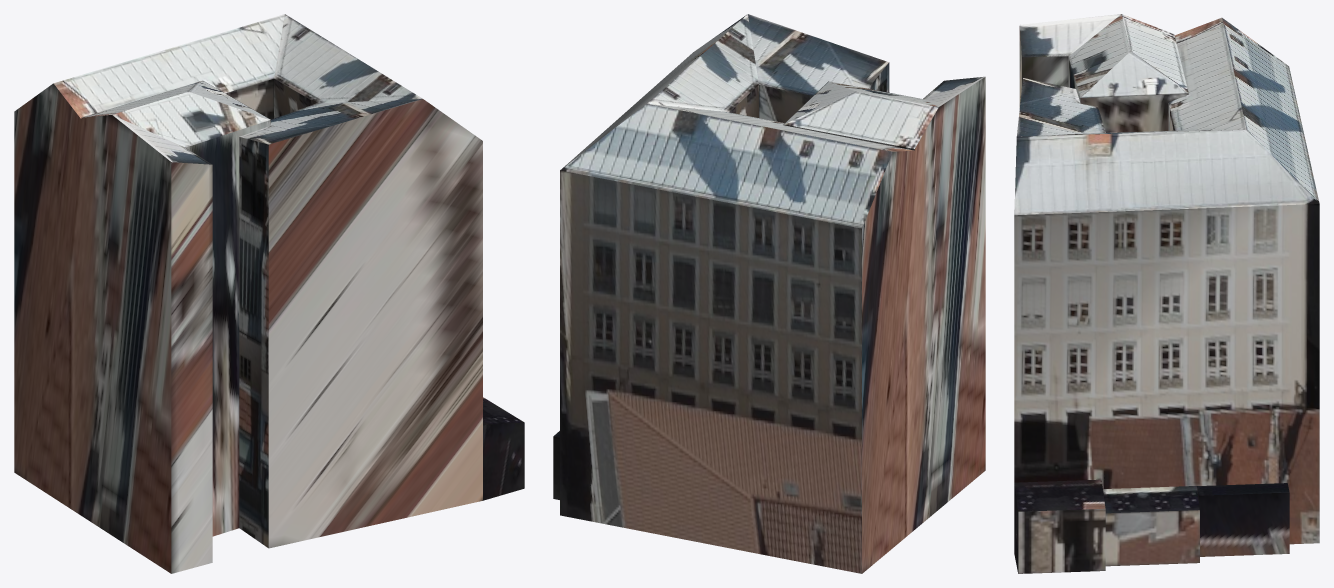
The picture shows the model from 3 angles, left to right: view 1: azimuth 30°, elevation 25°; view 2: azimuth 150°, elevation 25°; view 3: azimuth 270°, elevation 25°; orthographic projection. The views are drawn at different scales.
Visible parts, largest first — view 1: Z_UP; view 2: Z_UP; view 3: Z_UP.
Boxes of the visible parts, left/top/right/bottom form: Z_UP: left=14, top=14, right=524, bottom=573; Z_UP: left=553, top=14, right=985, bottom=573; Z_UP: left=1014, top=14, right=1319, bottom=573.
Bounding box in the file's own units: 21.23 × 23.3 × 16.29.
Materials: 2 (1 with a texture image).
